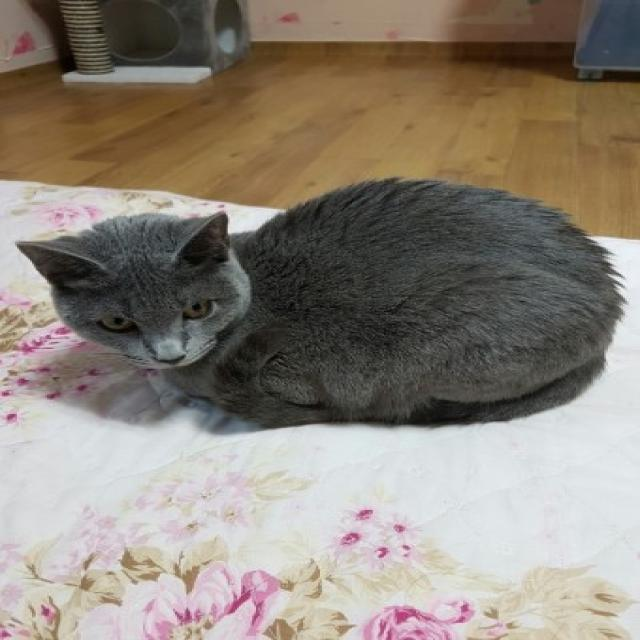cat: (18, 174, 636, 427)
